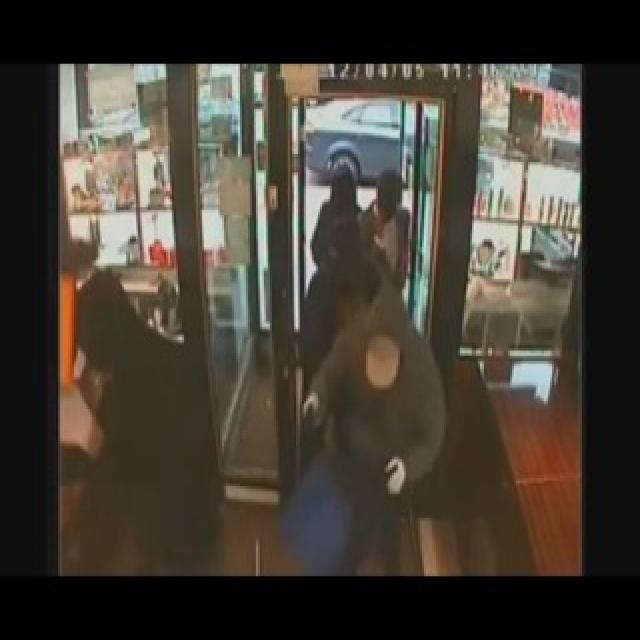burglary: (294, 203, 442, 502)
